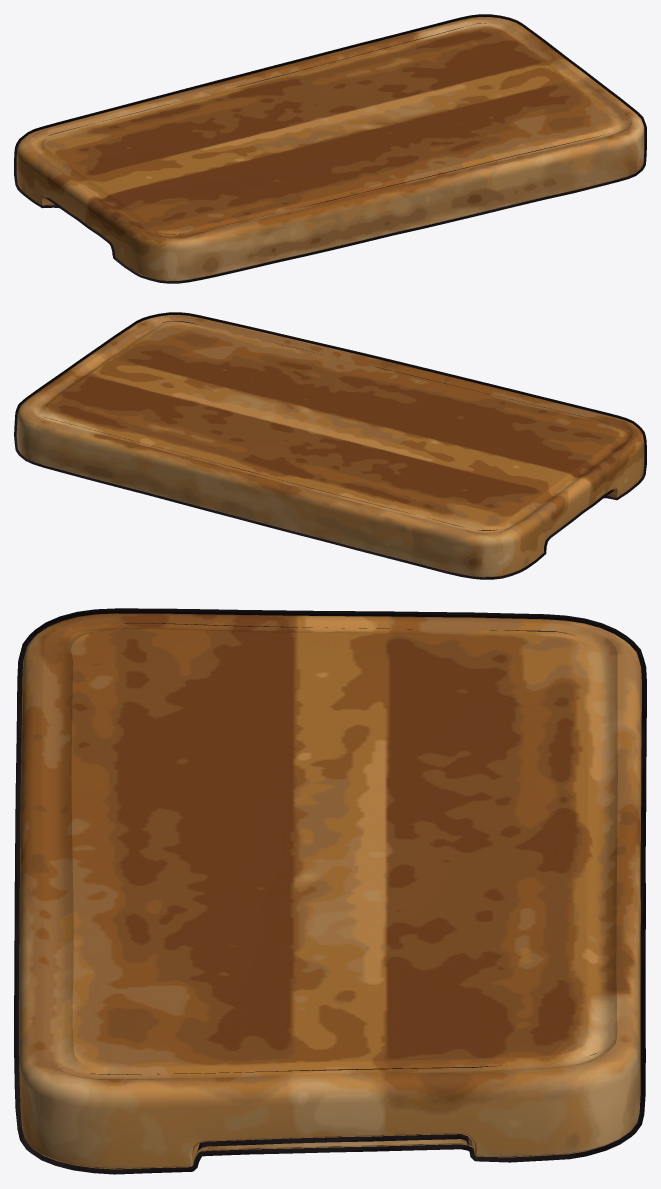
The model's file is SM_Int_CuttingBoard.fbx.
3 views of the same model, one above another, from view 1: azimuth 30°, elevation 25°; view 2: azimuth 150°, elevation 25°; view 3: azimuth 270°, elevation 25° (orthographic). The views are drawn at different scales.
Parts seen in each view (by area): view 1: SM_Int_CuttingBoard; view 2: SM_Int_CuttingBoard; view 3: SM_Int_CuttingBoard.
Boxes of the visible parts, x1,y1,x2,y2 form: SM_Int_CuttingBoard: (14,14,646,283); SM_Int_CuttingBoard: (14,312,646,579); SM_Int_CuttingBoard: (14,608,646,1174).
Size of the model in its own units: 0.4539 by 0.0452 by 0.2507.
